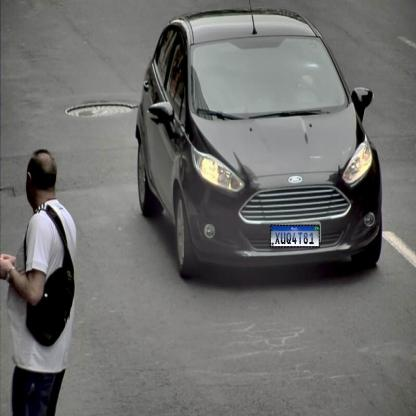PlacaM: (270, 224, 320, 247)
